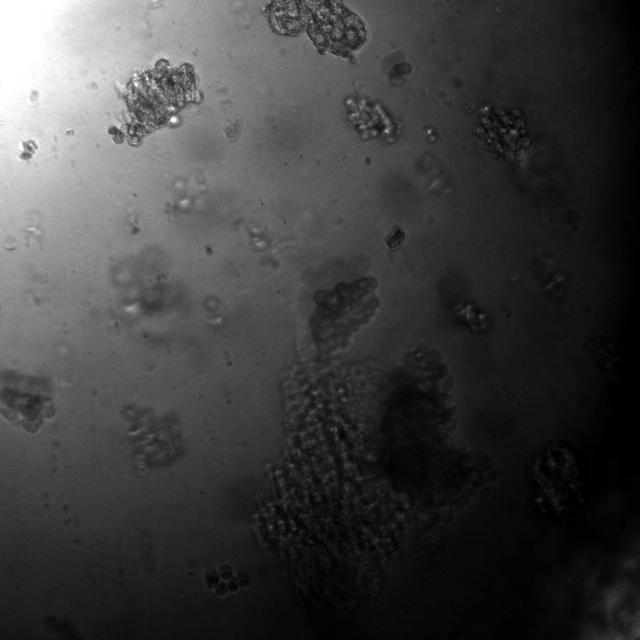organoid: (253, 277, 493, 612), (108, 58, 201, 146), (264, 0, 367, 62), (121, 403, 184, 475), (529, 441, 582, 519), (0, 369, 56, 434), (474, 105, 532, 160), (344, 96, 399, 143), (204, 563, 249, 598), (452, 301, 491, 333), (386, 227, 407, 252), (223, 118, 244, 143), (389, 61, 412, 80), (19, 140, 38, 160), (205, 245, 213, 256)
